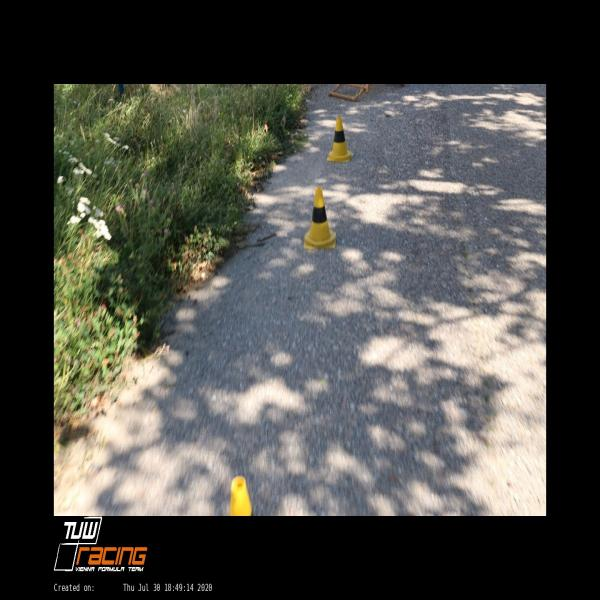yellow_cone: (303, 187, 336, 250), (327, 116, 353, 162), (229, 476, 253, 516)
